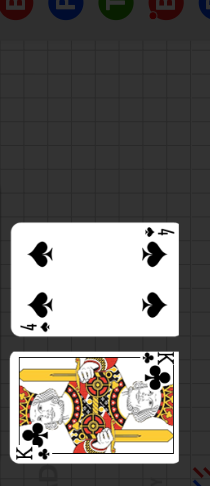4S: (19, 320, 53, 333), (143, 226, 176, 239)
